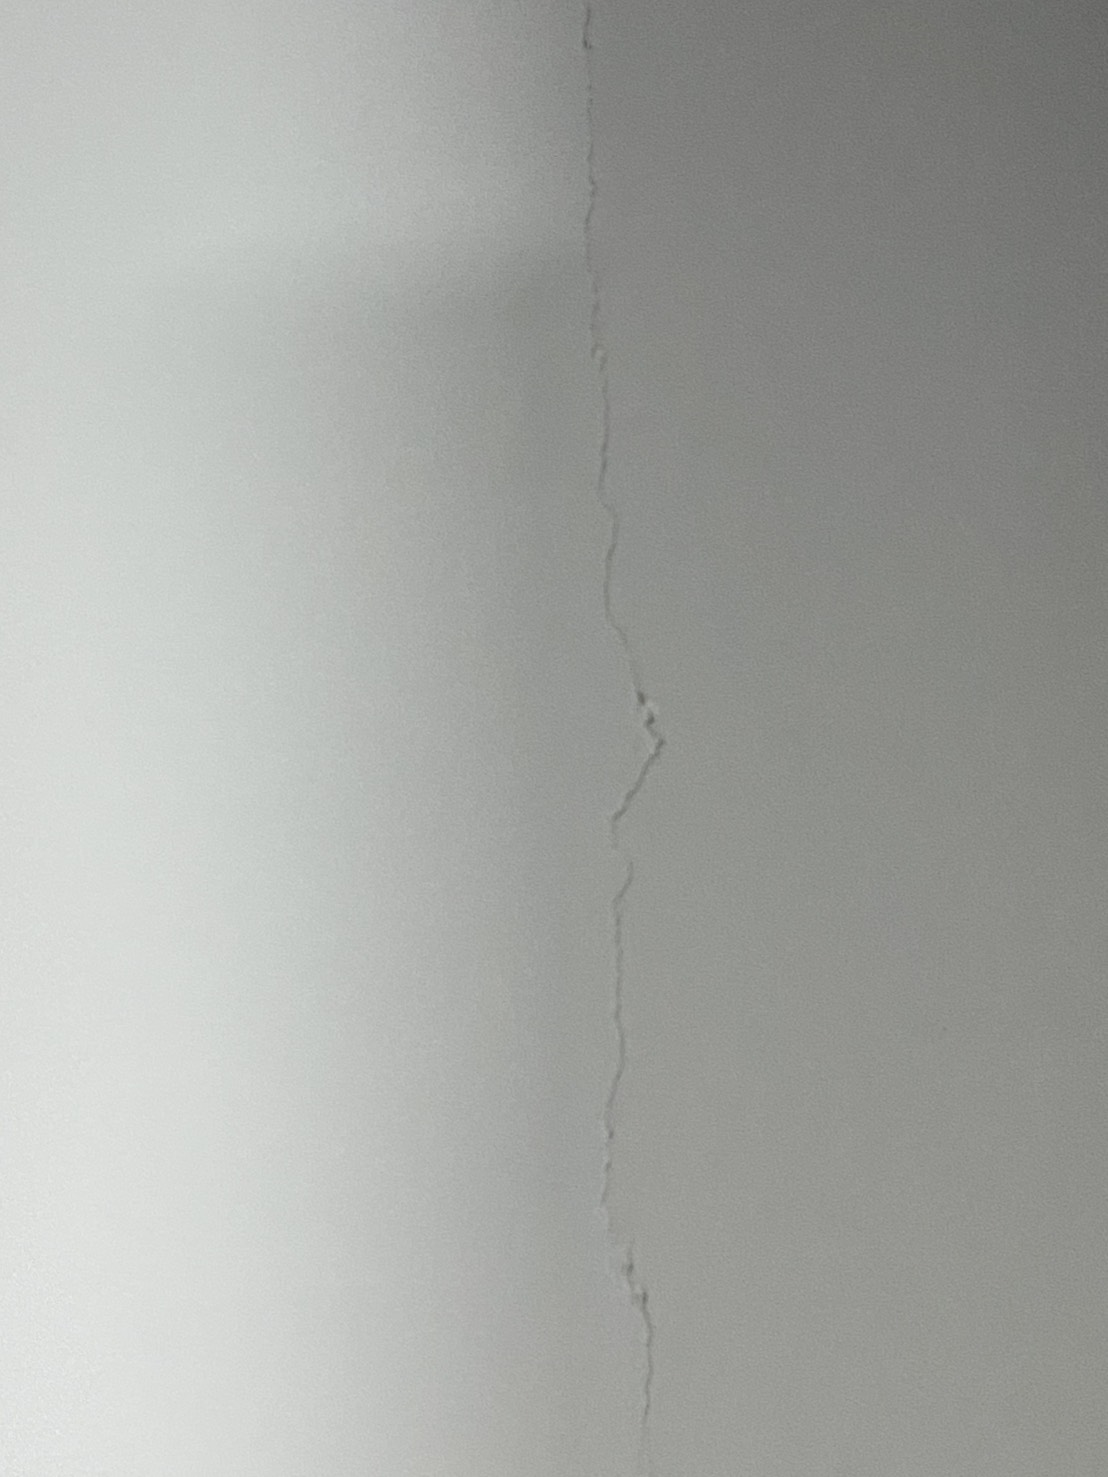Low: (569, 1, 681, 1474)
